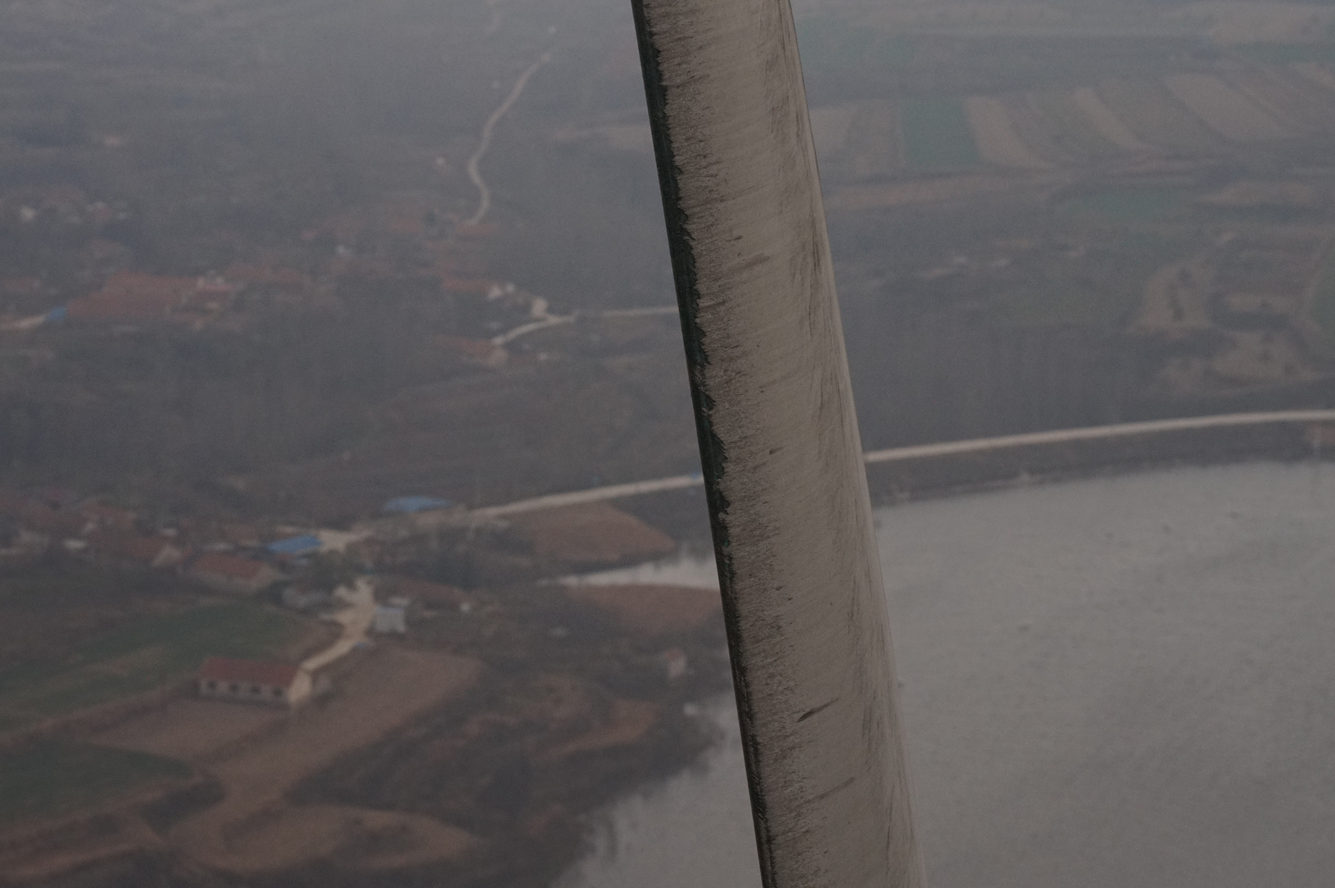Damage: (631, 0, 733, 566), (716, 568, 776, 888)
